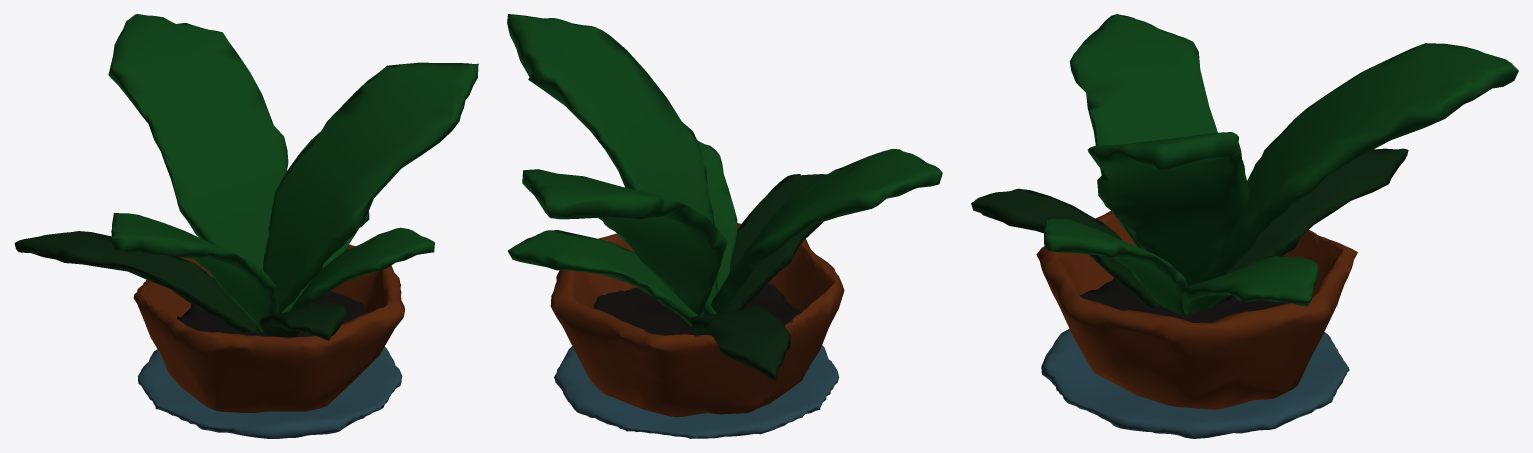
File: msh_Plant_01.fbx
3 views of the same model, side by side, from view 1: azimuth 30°, elevation 25°; view 2: azimuth 150°, elevation 25°; view 3: azimuth 270°, elevation 25° (orthographic). The views are drawn at different scales.
Visible parts, largest first — view 1: plant_01; view 2: plant_01; view 3: plant_01.
Part boxes in pixels (bbox=[...]): plant_01: bbox=[14, 14, 478, 438]; plant_01: bbox=[507, 14, 942, 438]; plant_01: bbox=[971, 14, 1518, 438].
Size of the model in its own units: 2.67 by 1.94 by 2.84.
